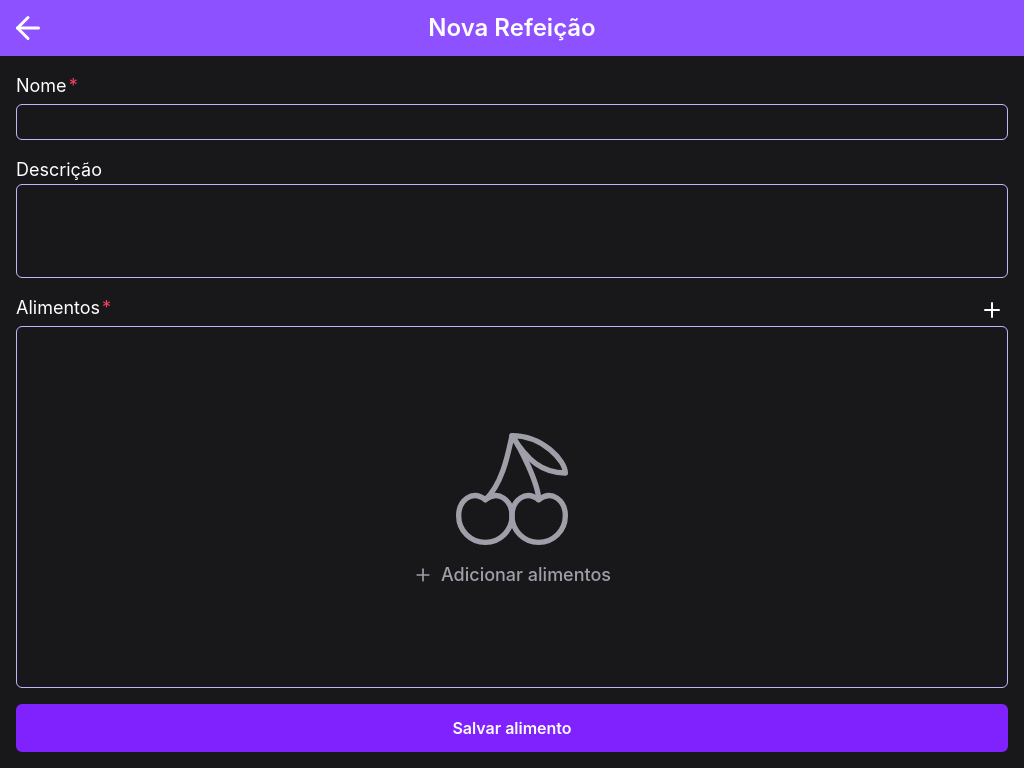
Scenario: <CreateMealPage /> › should add a food to the list correctly
Click the button with test id "add-food-button".
click(992, 310)  # box [976,294,1008,326]
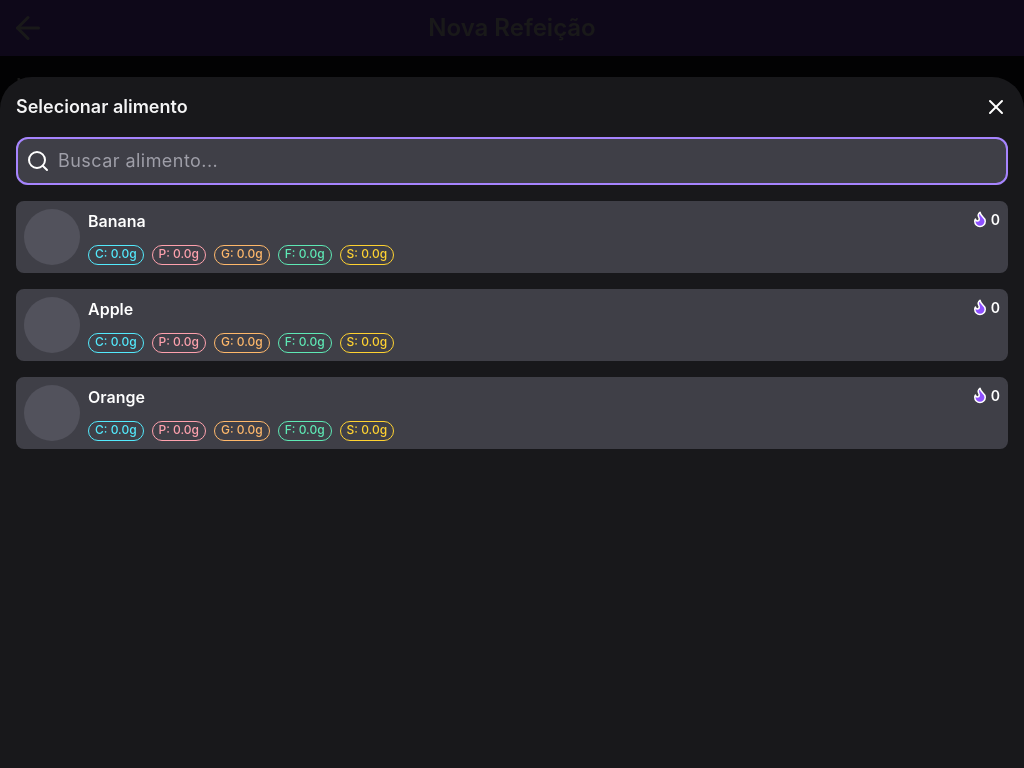
Click the element with test id "food-list-item" that starts with "Banana".
click(512, 237)  # box [16,201,1008,273]
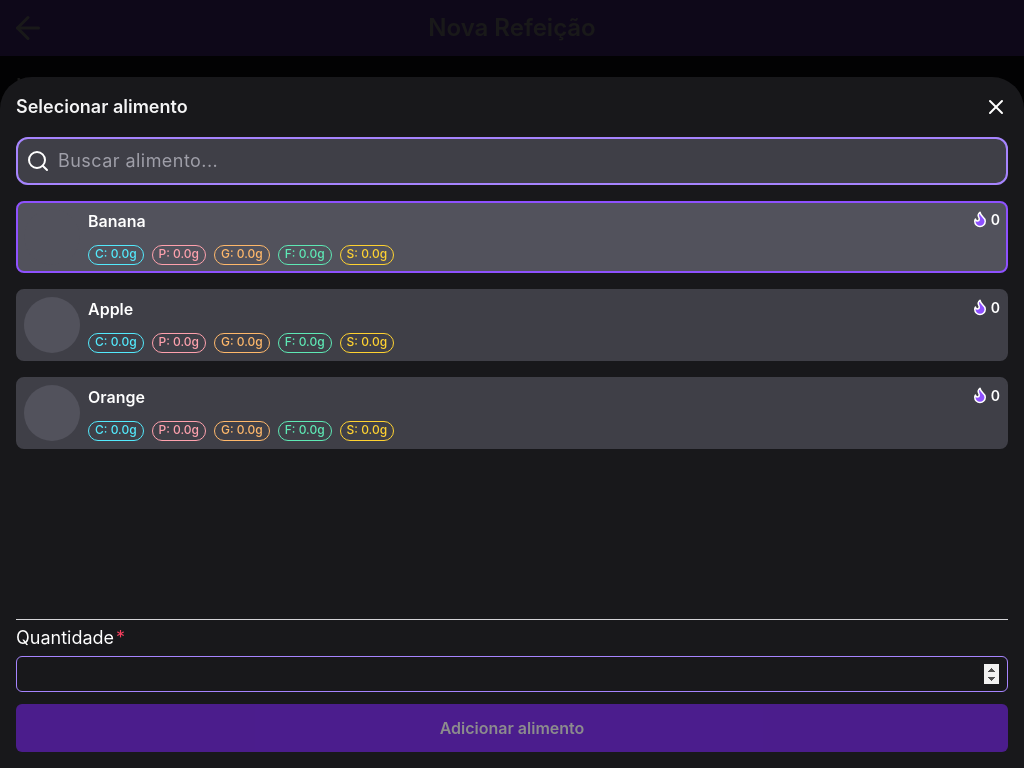
Type "100" into the number field with test id "quantity-input".
click(512, 674); type("100")  # box [16,656,1008,692]
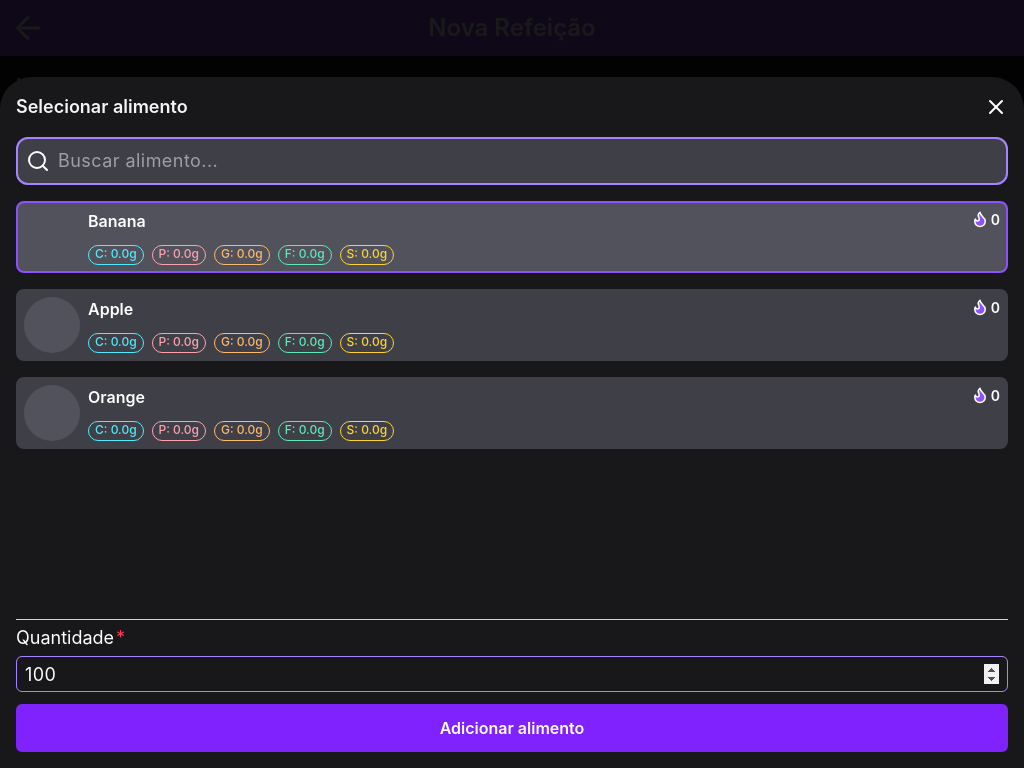
Click the button with test id "submit-button".
click(512, 728)  # box [16,704,1008,752]
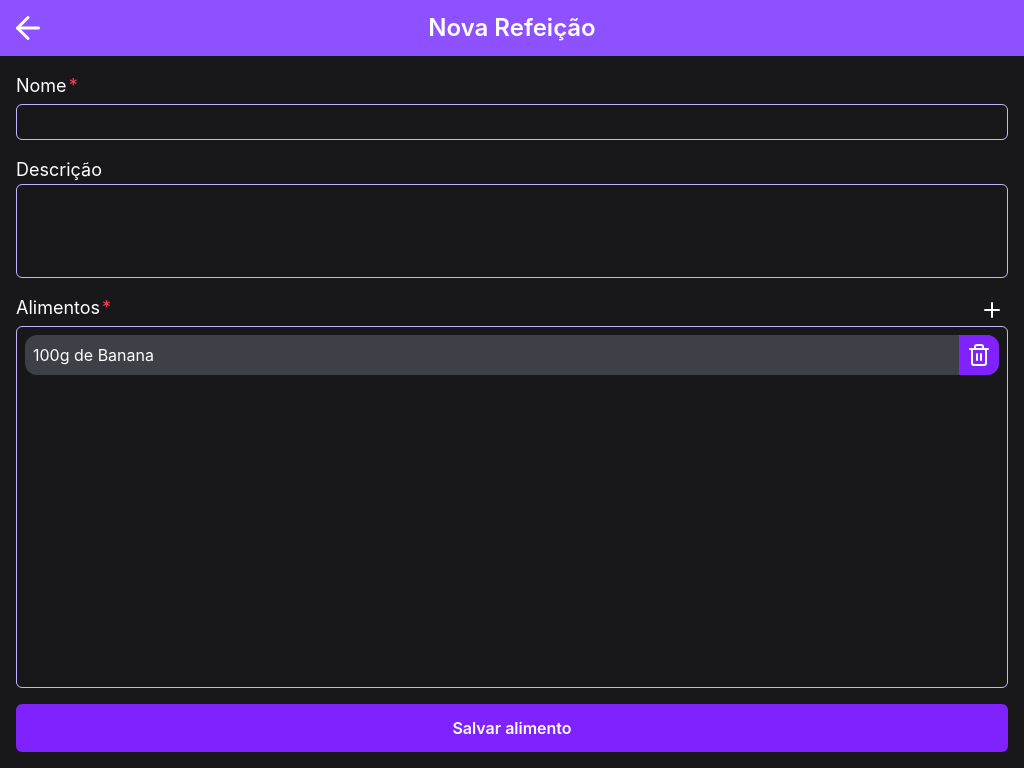
Now the text "100g de Banana" is shown, box [25,343,162,367]
